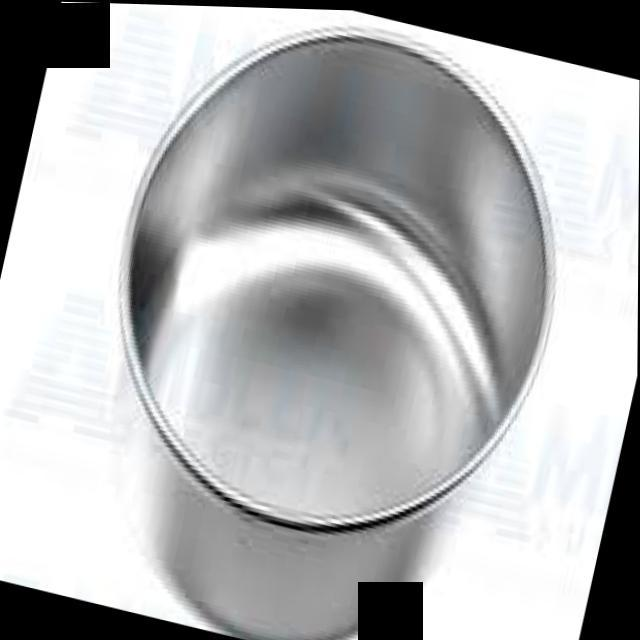Sponge Bowl: (42, 1, 602, 640)
